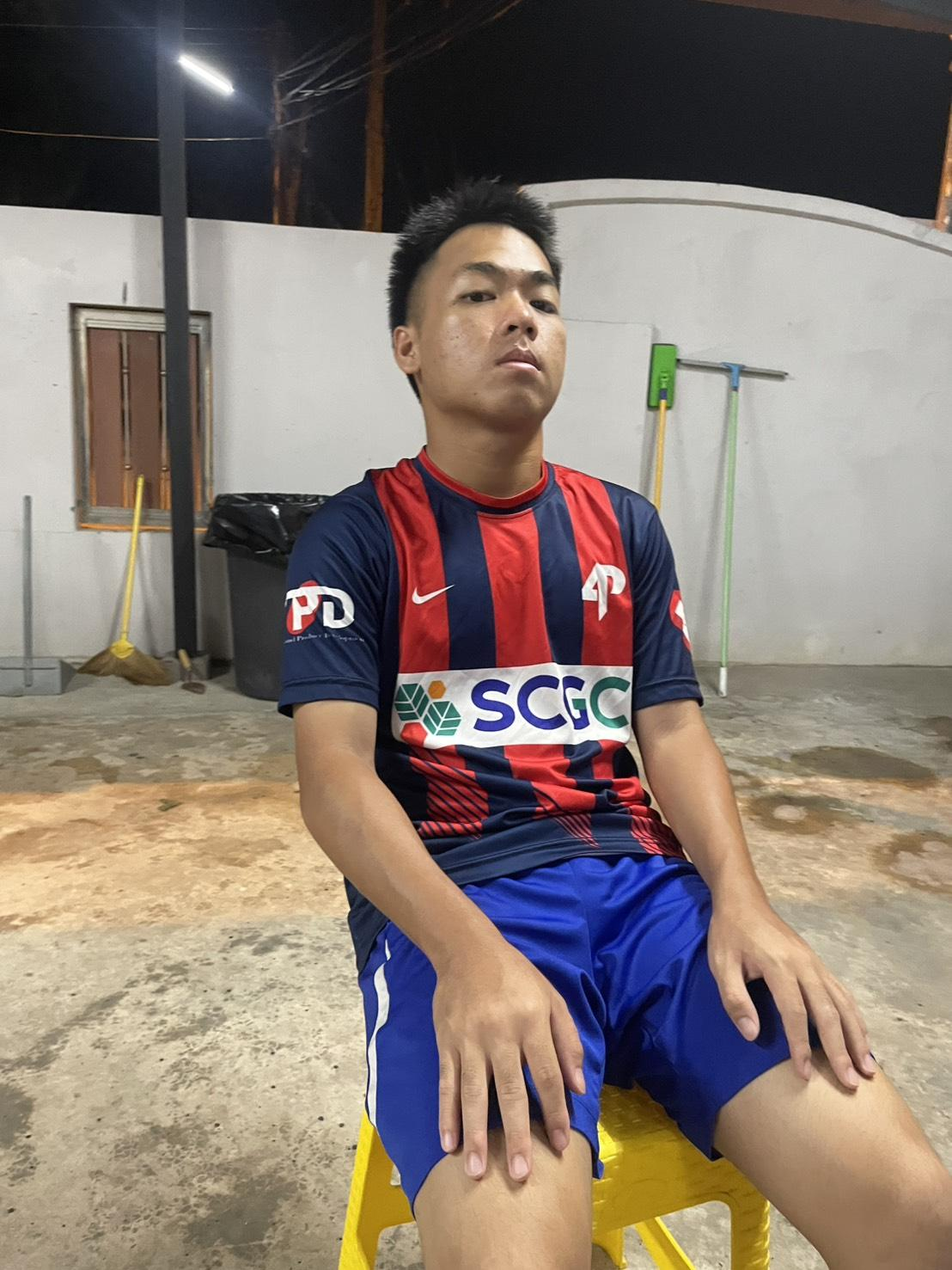BadPosture: (282, 181, 760, 899)
